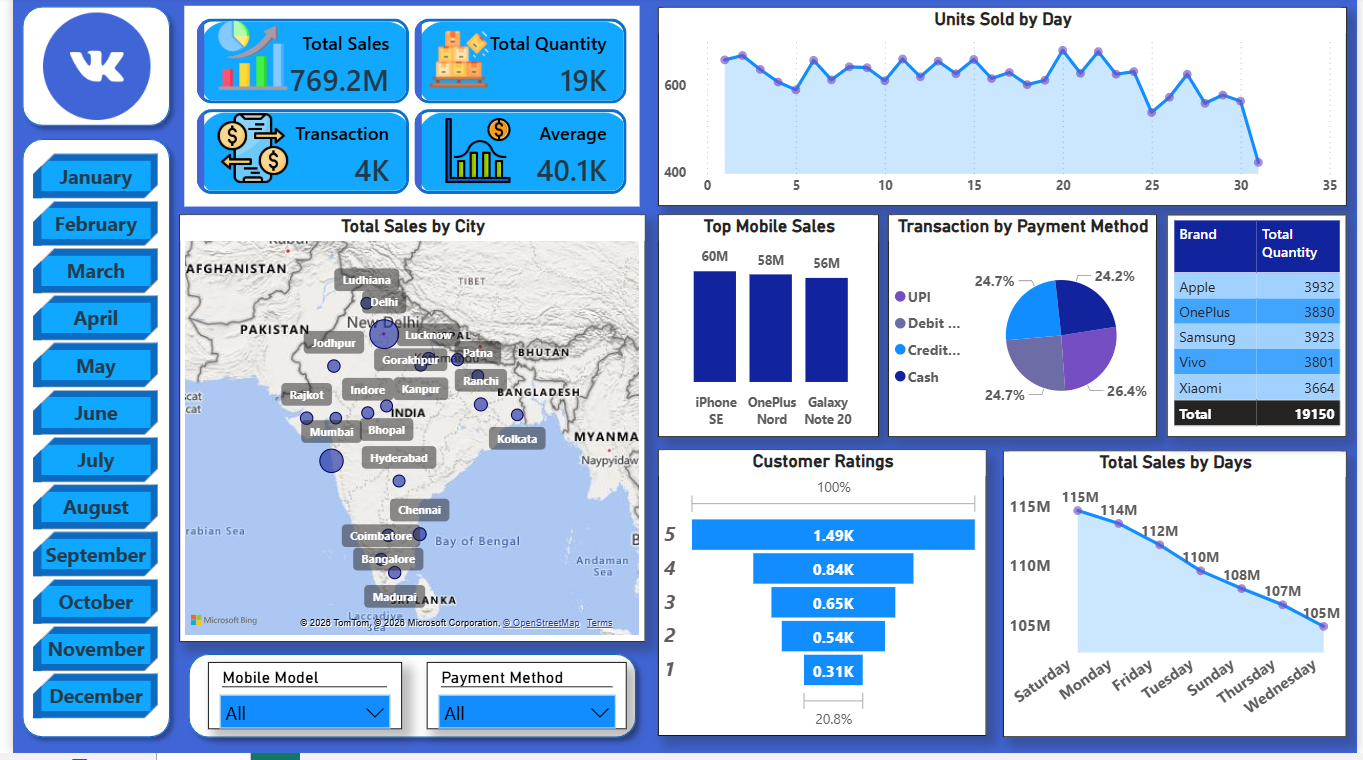

This screenshot's page, from the dashboard's own definition file:
{"tool":"powerbi","page":{"name":"Page 1","canvas":[1280,720],"ordinal":0},"visuals":[{"type":"shape","box":[0,125.6,158.5,587.8],"z":0},{"type":"shape","box":[0,0,158.5,131.7],"z":1000},{"type":"image","box":[28,6.1,102.4,119.5],"z":2000},{"type":"advancedSlicerVisual","fields":{"Values":["Sales_Data.Date.Variation.Date Hierarchy.Month"]},"box":[14.6,143.9,129.3,551.2],"z":3000},{"type":"cardVisual","fields":{"Data":["Sales_Data.Total Sales","Sales_Data.Total Quantity","Sales_Data.Total Transaction","Sales_Data.Average"]},"box":[158.3,3.6,444,201.2],"z":4000},{"type":"map","fields":{"Category":["Sales_Data.City"],"Size":["Sales_Data.Total Sales"]},"box":[158.3,207.1,444,407.1],"z":5000},{"type":"lineChart","title":"Units Sold by Day","fields":{"Y":["Sum(Sales_Data.Units Sold)"],"Category":["Sales_Data.Date.Variation.Date Hierarchy.Month","Sales_Data.Date.Variation.Date Hierarchy.Day"]},"box":[614.3,9.5,656,189.3],"z":6000},{"type":"clusteredColumnChart","title":"Top Mobile Sales","fields":{"Y":["Sales_Data.Total Sales"],"Category":["Sales_Data.Mobile Model"]},"box":[614.3,207.1,210.7,211.9],"z":7000},{"type":"pieChart","fields":{"Category":["Sales_Data.Payment Method"],"Y":["Sales_Data.Transaction"]},"box":[833.3,207.1,256,211.9],"z":8000},{"type":"funnel","title":"Customer Ratings","fields":{"Category":["Sales_Data.Customer Ratings"],"Y":["CountNonNull(Sales_Data.Customer Ratings)"]},"box":[614.3,431,313.1,272.6],"z":9000},{"type":"image","box":[194,17.9,69,75],"z":10000},{"type":"image","box":[188.1,109.5,81,69],"z":11000},{"type":"image","box":[396.4,26.2,57.1,66.7],"z":12000},{"type":"image","box":[396.4,114.3,92.9,64.3],"z":13000},{"type":"stackedAreaChart","title":"Total Sales by Days","fields":{"Category":["Sales_Data.Day Name"],"Y":["Sales_Data.Total Sales"]},"box":[942.9,432.1,327.4,272.6],"z":14000},{"type":"tableEx","fields":{"Values":["Sales_Data.Brand","Sales_Data.Total Quantity"]},"box":[1098.8,207.1,171.4,211.9],"z":15000},{"type":"shape","box":[158.3,616.7,444,97.6],"z":17000},{"type":"slicer","fields":{"Values":["Sales_Data.Mobile Model"]},"box":[185.7,633.3,184.5,64.3],"z":18000},{"type":"slicer","fields":{"Values":["Sales_Data.Payment Method"]},"box":[394,633.3,190.5,64.3],"z":18001}]}

Visuals, with their boxes in screenshot pixels (x1, y1, x2, y2), scaled from the page's 1280x720 canvas onto the 1363x760 screenshot:
shape: x1=0, y1=133, x2=169, y2=753
shape: x1=0, y1=0, x2=169, y2=139
image: x1=30, y1=6, x2=139, y2=133
advancedSlicerVisual - Sales_Data.Date.Variation.Date Hierarchy.Month: x1=16, y1=152, x2=153, y2=734
cardVisual - Sales_Data.Total Sales x Sales_Data.Total Quantity: x1=169, y1=4, x2=641, y2=216
map - Sales_Data.City x Sales_Data.Total Sales: x1=169, y1=219, x2=641, y2=648
"Units Sold by Day" lineChart: x1=654, y1=10, x2=1353, y2=210
"Top Mobile Sales" clusteredColumnChart: x1=654, y1=219, x2=878, y2=442
pieChart - Sales_Data.Payment Method x Sales_Data.Transaction: x1=887, y1=219, x2=1160, y2=442
"Customer Ratings" funnel: x1=654, y1=455, x2=988, y2=743
image: x1=207, y1=19, x2=280, y2=98
image: x1=200, y1=116, x2=287, y2=188
image: x1=422, y1=28, x2=483, y2=98
image: x1=422, y1=121, x2=521, y2=189
"Total Sales by Days" stackedAreaChart: x1=1004, y1=456, x2=1353, y2=744
tableEx - Sales_Data.Brand x Sales_Data.Total Quantity: x1=1170, y1=219, x2=1353, y2=442
shape: x1=169, y1=651, x2=641, y2=754
slicer - Sales_Data.Mobile Model: x1=198, y1=668, x2=394, y2=736
slicer - Sales_Data.Payment Method: x1=420, y1=668, x2=622, y2=736
